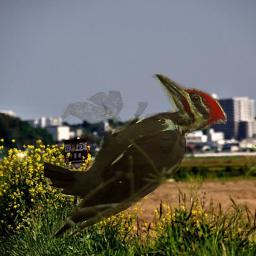Woodpecker: (44, 74, 227, 244)
